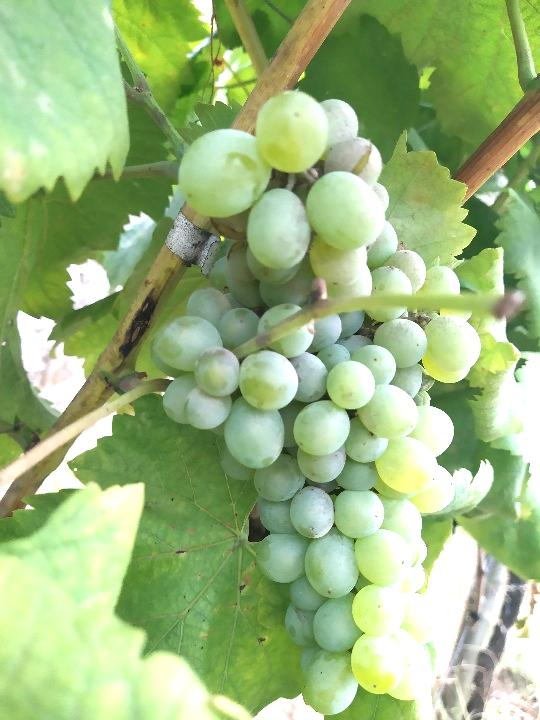grape: (155, 91, 486, 716)
